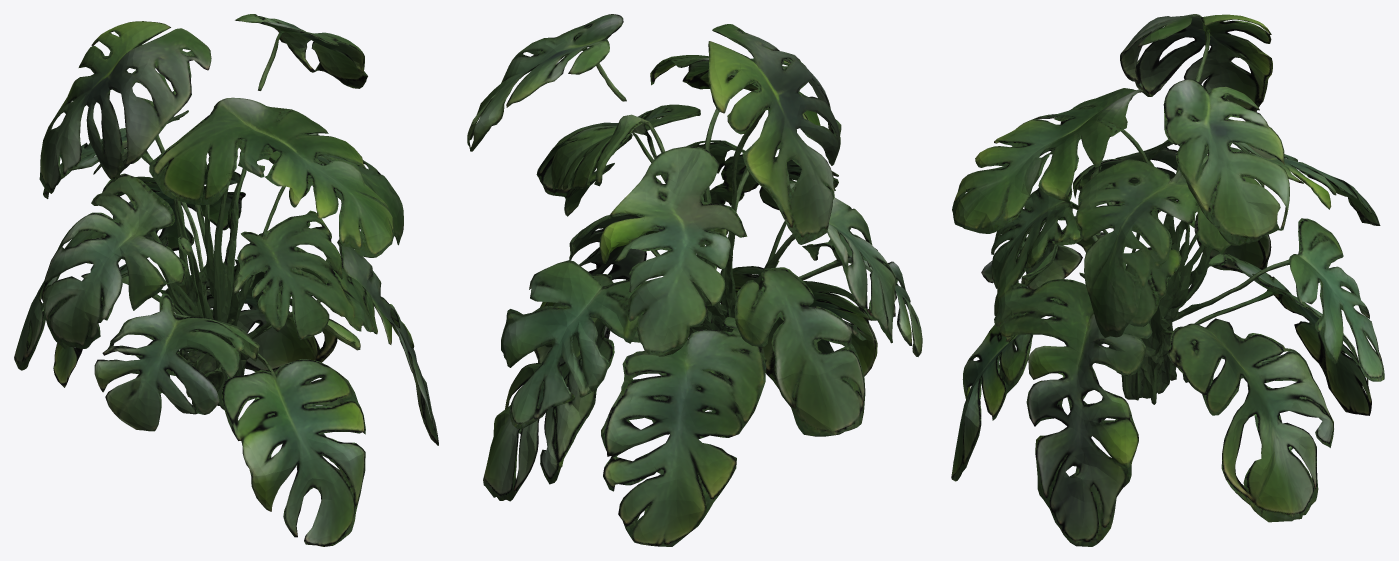
Rendered from MonsteraGLB.glb.
3 views of the same model, side by side, from view 1: azimuth 30°, elevation 25°; view 2: azimuth 150°, elevation 25°; view 3: azimuth 270°, elevation 25° (orthographic). The views are drawn at different scales.
Visible parts, largest first — view 1: world; view 2: world; view 3: world.
Part boxes in pixels (left/top/right/bottom): world: left=14, top=14, right=438, bottom=546; world: left=467, top=14, right=922, bottom=546; world: left=951, top=14, right=1384, bottom=546.
Size of the model in its own units: 0.7477 by 0.8953 by 0.8015.
1 material, 1 textured.
